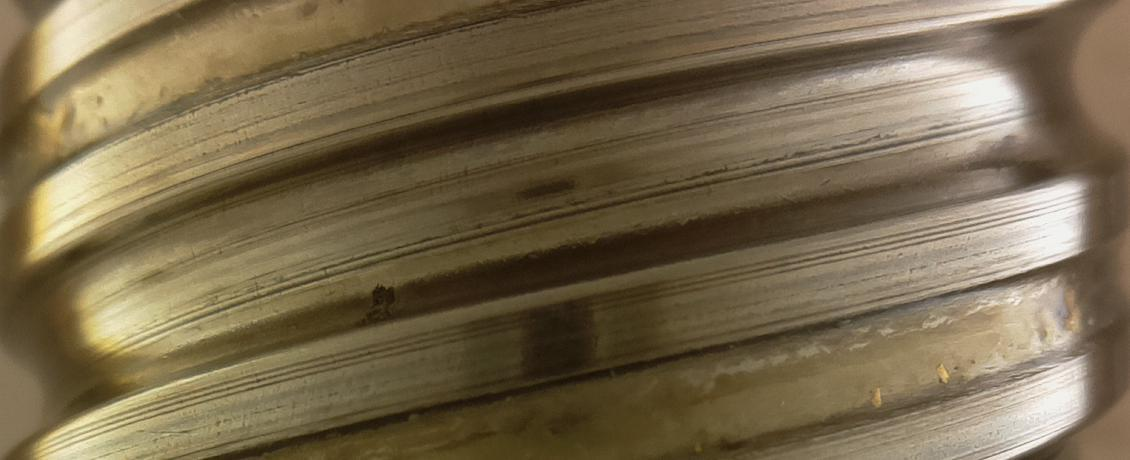pitting: (365, 282, 404, 325)
